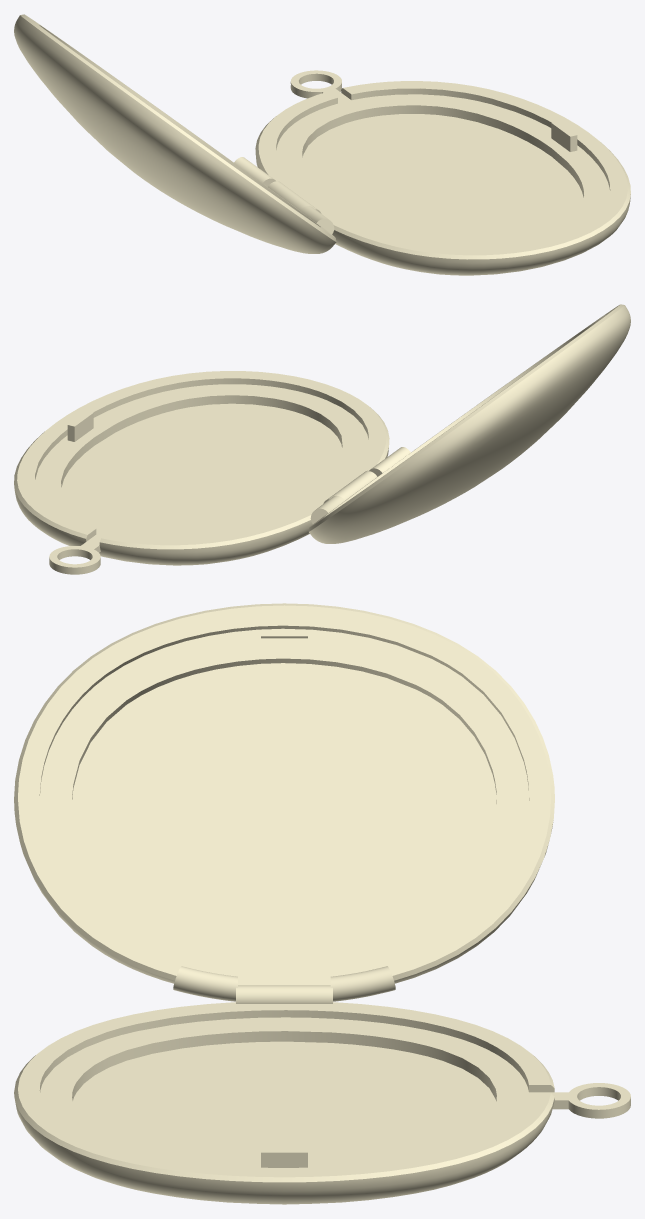
The model's file is 864_locket_pendant_open.glb.
The picture shows the model from 3 angles, top to bottom: view 1: azimuth 30°, elevation 25°; view 2: azimuth 150°, elevation 25°; view 3: azimuth 270°, elevation 25°; orthographic projection. The views are drawn at different scales.
Parts seen in each view (by area): view 1: 1, 2; view 2: 1, 2; view 3: 2, 1.
Boxes of the visible parts, left/top/right/bottom form: 1: left=255, top=70, right=630, bottom=275; 2: left=14, top=14, right=336, bottom=253; 1: left=14, top=371, right=389, bottom=574; 2: left=308, top=304, right=630, bottom=543; 2: left=14, top=603, right=554, bottom=1001; 1: left=14, top=985, right=630, bottom=1204.
Size of the model in its own units: 0.0391 by 0.0189 by 0.0318.
